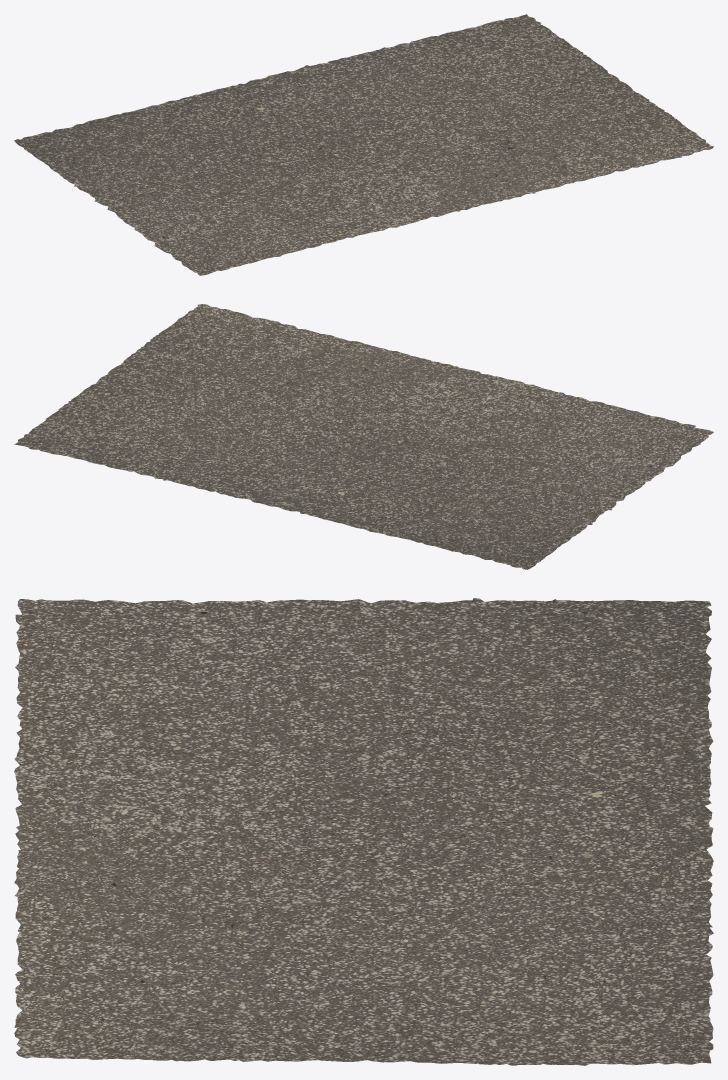
The model's file is asphalt.glb.
3 renders of one model, top to bottom at view 1: azimuth 30°, elevation 25°; view 2: azimuth 150°, elevation 25°; view 3: azimuth 270°, elevation 25°, orthographic. The views are drawn at different scales.
Parts seen in each view (by area): view 1: Object_2; view 2: Object_2; view 3: Object_2.
Part boxes in pixels (x1,y1,x2,y2): Object_2: (14,14,713,275); Object_2: (14,304,713,569); Object_2: (14,598,713,1065).
Bounding box in the file's own units: 1.8 × 0.0209 × 1.14.
1 material, 1 textured.
